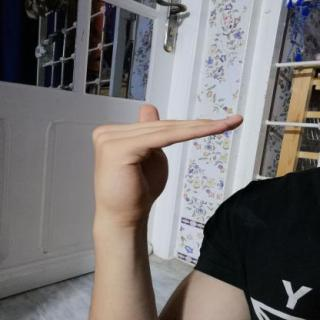KHAA: (77, 98, 255, 226)
